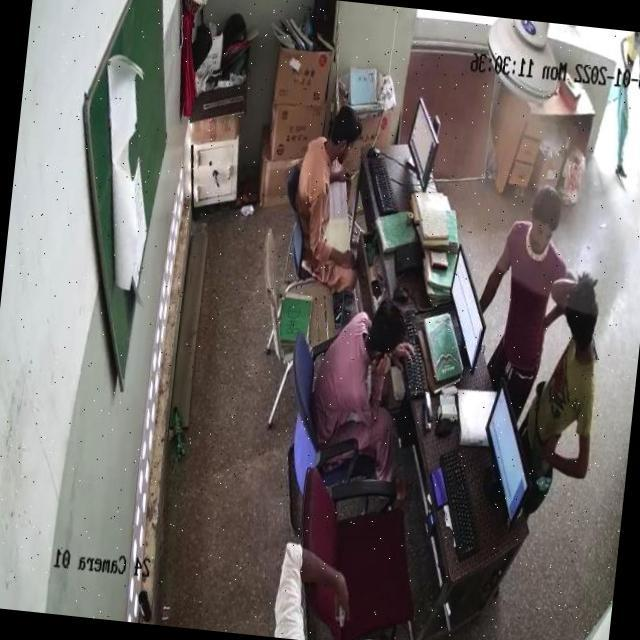person: (512, 273, 606, 501), (479, 189, 564, 396), (312, 294, 405, 444), (292, 113, 362, 267), (601, 30, 640, 184)
